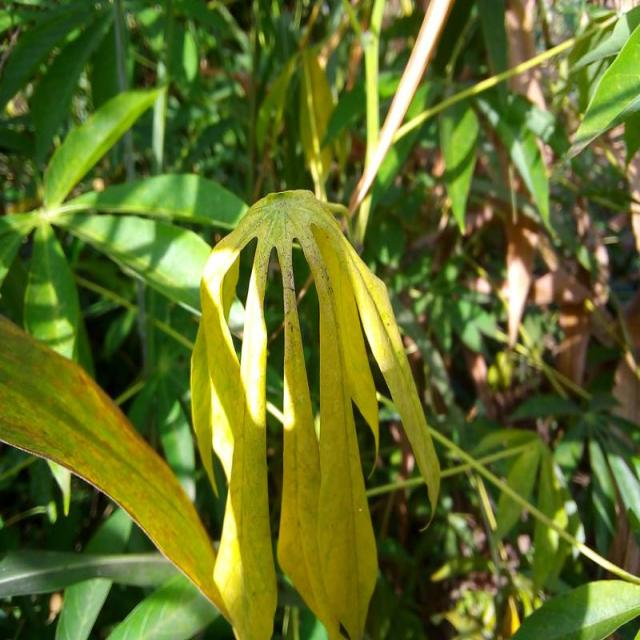cassava leaf: (189, 187, 441, 638)
